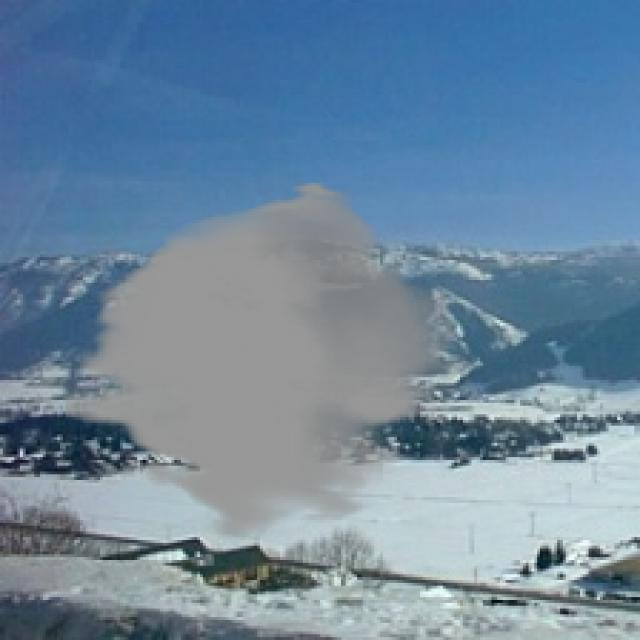Smoke: (66, 180, 452, 540)
